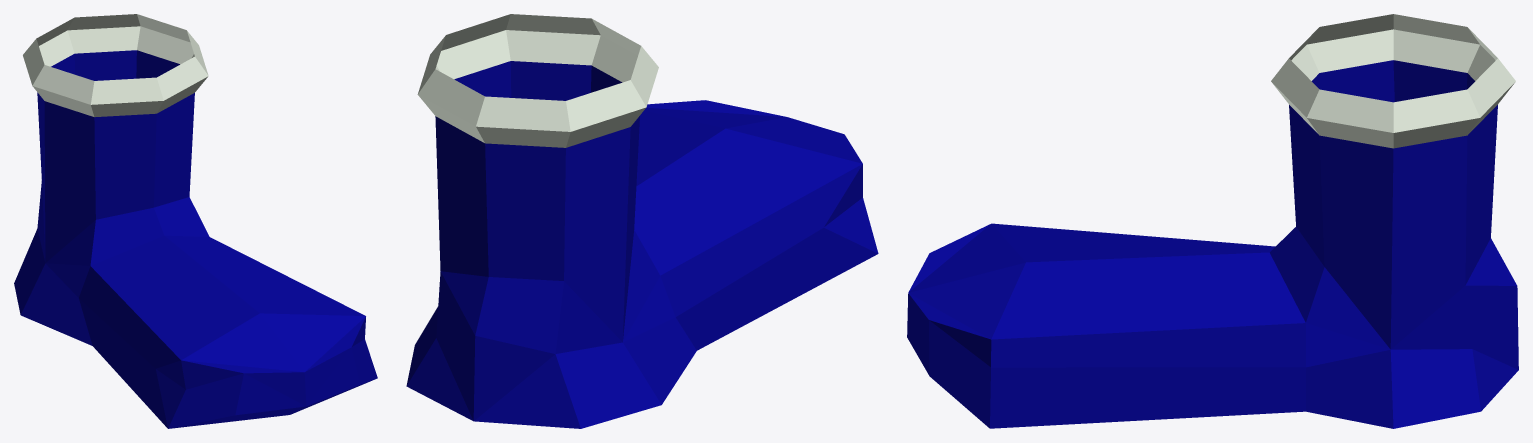
File: sneakers.fbx
3 renders of one model, left to right at view 1: azimuth 30°, elevation 25°; view 2: azimuth 150°, elevation 25°; view 3: azimuth 270°, elevation 25°, orthographic. The views are drawn at different scales.
Parts seen in each view (by area): view 1: Circle; view 2: Circle; view 3: Circle.
Boxes of the visible parts, x1,y1,x2,y2 form: Circle: (14, 14, 377, 428); Circle: (406, 14, 878, 428); Circle: (907, 14, 1518, 428).
Bounding box in the file's own units: 75.05 × 84.05 × 150.
